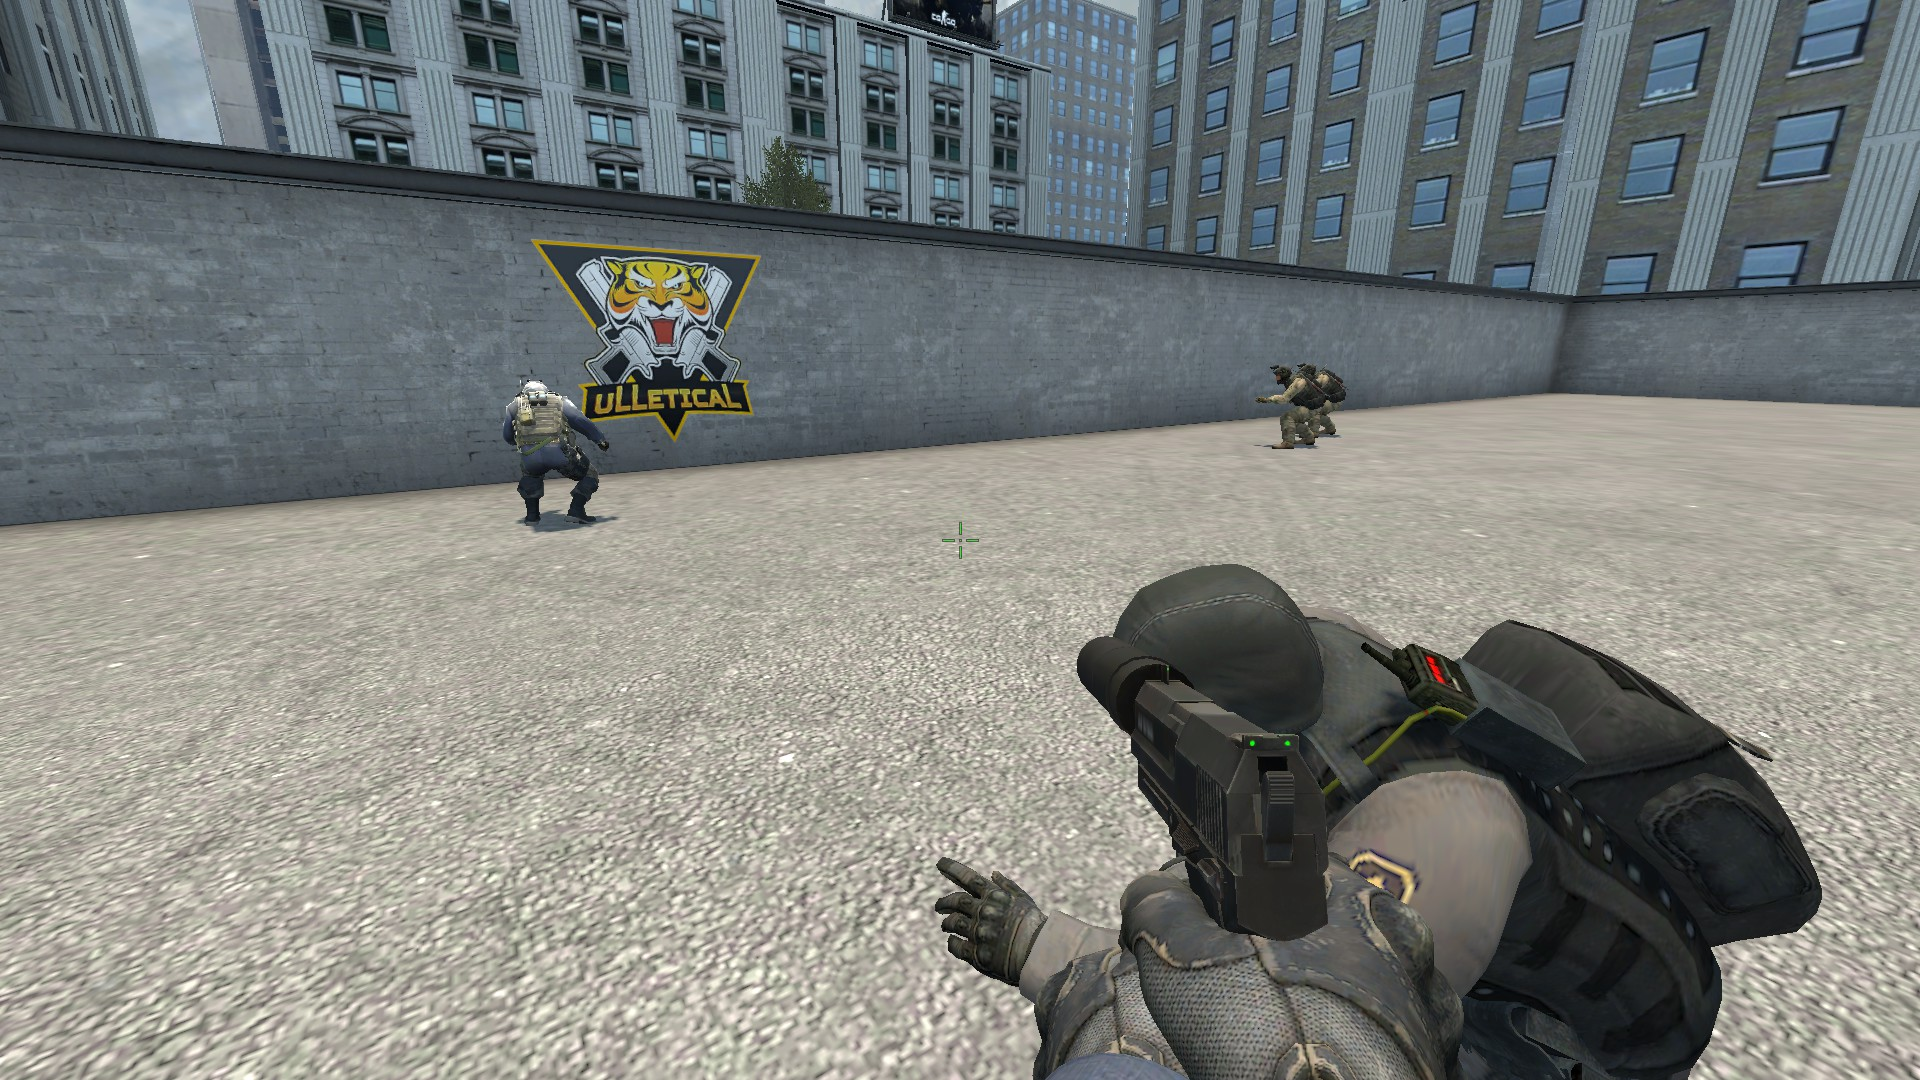ct: (926, 554, 1828, 1080), (497, 373, 613, 527)
ct head: (1100, 556, 1356, 753), (516, 371, 556, 404)
